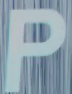Parking: (3, 1, 66, 89)
